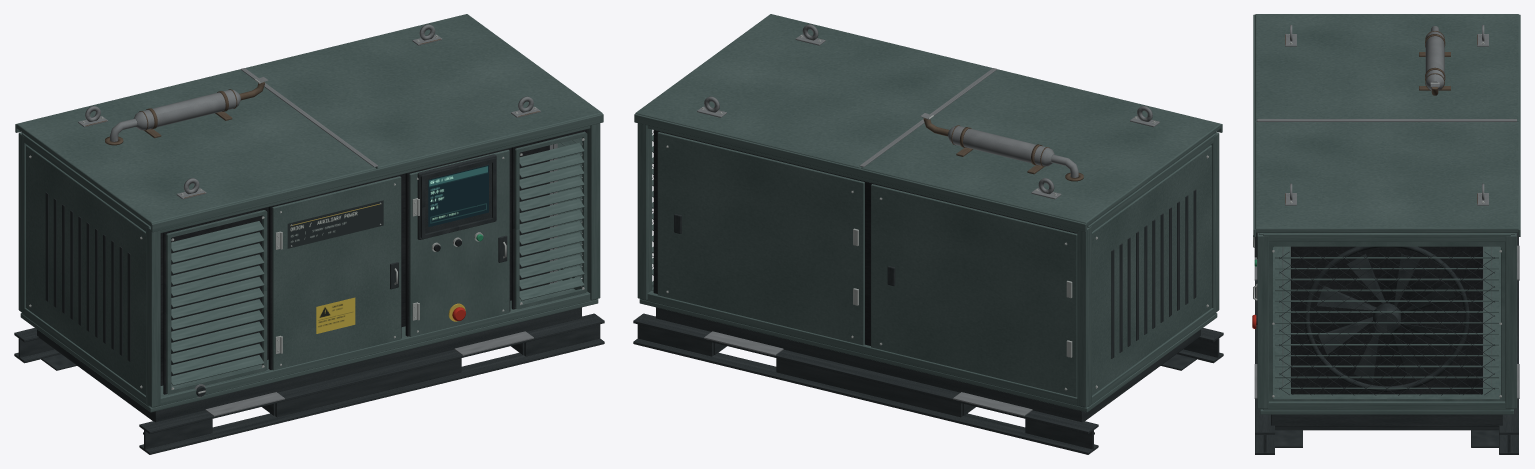
Rendered from generator_after.glb.
3 views of the same model, side by side, from view 1: azimuth 30°, elevation 25°; view 2: azimuth 150°, elevation 25°; view 3: azimuth 270°, elevation 25° (orthographic). The views are drawn at different scales.
Parts seen in each view (by area): view 1: Orion generator review mesh; view 2: Orion generator review mesh; view 3: Orion generator review mesh.
Boxes of the visible parts, left/top/right/bottom form: Orion generator review mesh: left=14, top=14, right=604, bottom=454; Orion generator review mesh: left=633, top=14, right=1223, bottom=454; Orion generator review mesh: left=1252, top=14, right=1520, bottom=454.
Size of the model in its own units: 3.25 by 1.77 by 1.71.
12 materials, 9 textured.
